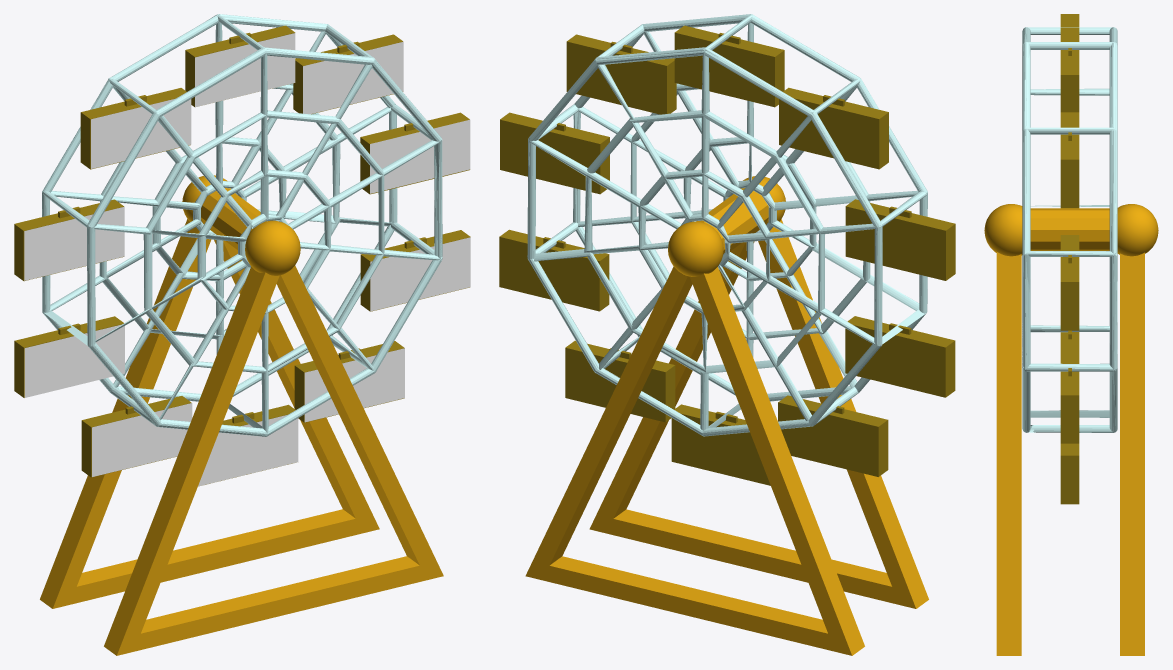
Rendered from ferris_decom.glb.
3 renders of one model, left to right at view 1: azimuth 30°, elevation 25°; view 2: azimuth 150°, elevation 25°; view 3: azimuth 270°, elevation 25°, orthographic. The views are drawn at different scales.
Parts seen in each view (by area): view 1: Plane, Cylinder, Plane.003, Plane.004, Plane.002, Plane.010, Plane.007, Plane.005, Plane.008, Plane.006, Plane.009, Plane.001 (+9 smaller); view 2: Plane, Cylinder, v.004, v.003, v.002, v.005, v.007, v.006, v.008, v.009, v.010, v.001; view 3: Plane, Cylinder, v.009, v.007, v.008, v.006, v.001, v.002, v.005.
Part boxes in pixels (x1,y1,x2,y2): Plane: [40, 175, 443, 655]; Cylinder: [42, 14, 442, 436]; Plane.003: [24, 324, 124, 397]; Plane.004: [24, 206, 124, 280]; Plane.002: [92, 403, 192, 476]; Plane.010: [370, 237, 470, 311]; Plane.007: [303, 41, 403, 114]; Plane.005: [91, 99, 191, 168]; Plane.008: [370, 119, 470, 193]; Plane.006: [195, 33, 295, 107]; Plane.009: [198, 415, 298, 486]; Plane.001: [304, 348, 404, 422]; Plane: [525, 176, 928, 655]; Cylinder: [527, 14, 927, 436]; v.004: [845, 199, 955, 280]; v.003: [845, 316, 955, 397]; v.002: [778, 395, 888, 476]; v.005: [779, 87, 888, 169]; v.007: [566, 34, 676, 114]; v.006: [674, 25, 784, 107]; v.008: [499, 229, 609, 311]; v.009: [500, 112, 609, 194]; v.010: [671, 404, 770, 485]; v.001: [565, 340, 675, 422]; Plane: [984, 204, 1158, 655]; Cylinder: [1022, 27, 1117, 432]; v.009: [1060, 235, 1079, 330]; v.007: [1060, 112, 1079, 207]; v.008: [1060, 348, 1079, 443]; v.006: [1060, 27, 1079, 112]; v.001: [1060, 443, 1079, 504]; v.002: [1060, 330, 1079, 347]; v.005: [1060, 14, 1079, 27].
Bounding box in the file's own units: 2.45 × 2.92 × 0.8585.
